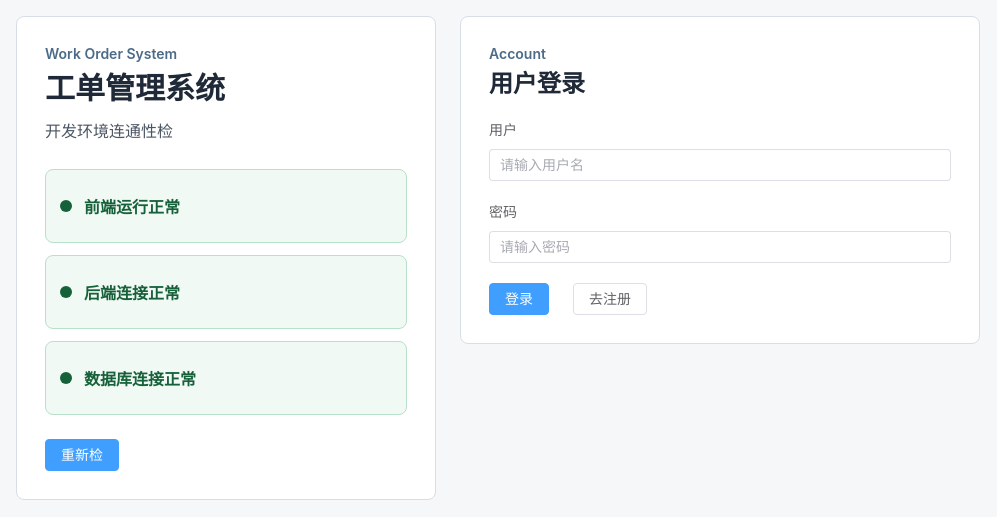
Test: App › shows login API errors without opening protected views
This screenshot has width=997, height=517.
Type "demo" into the field labelled "用户". click: (720, 165)
box: [500,150,940,180]
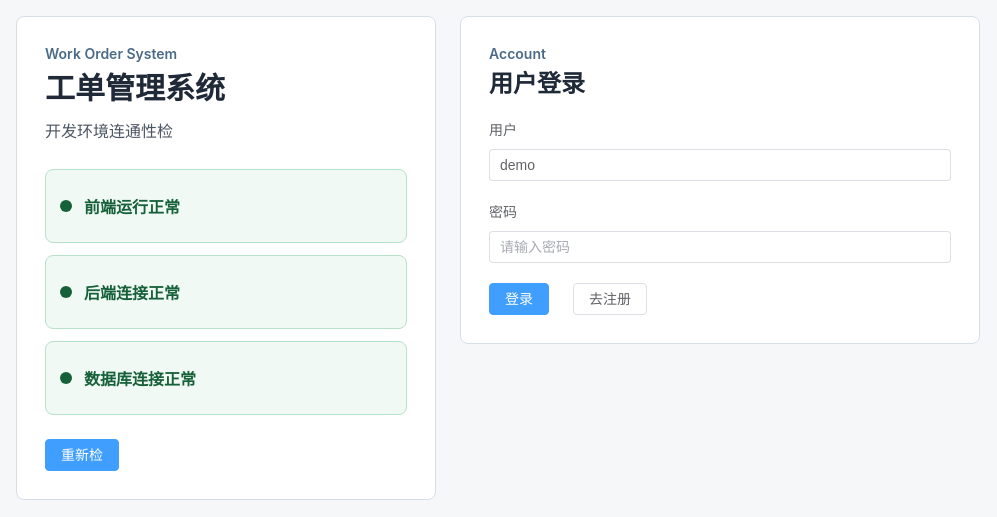
Type "wrong-password" into the password field labelled "密码". click: (720, 247)
box: [500,232,940,262]
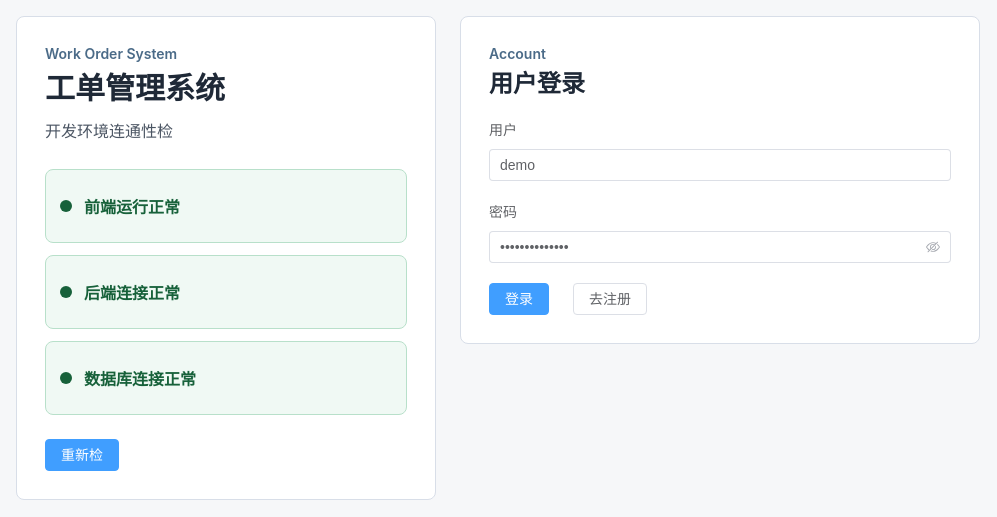
Submit the form, box [489,119,951,315]
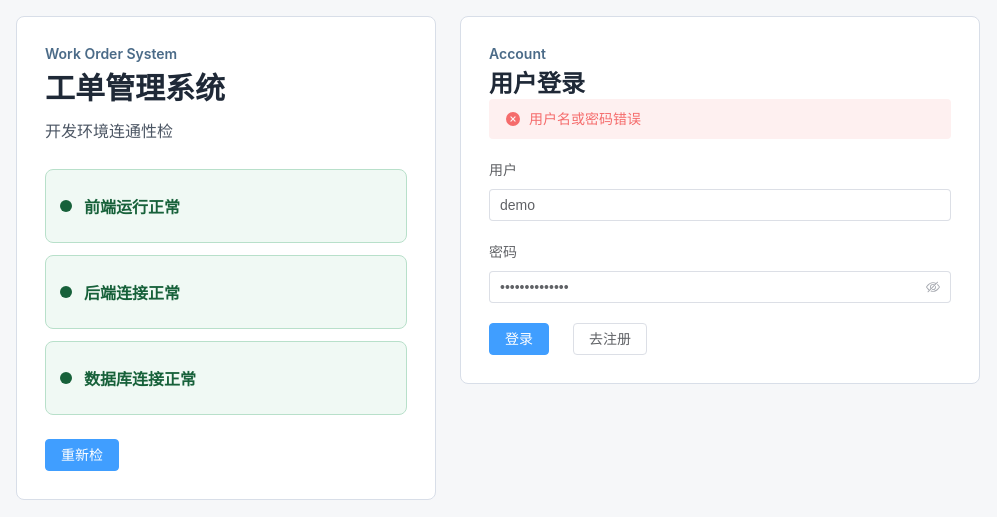
Expected: the text "用户登录" is shown, [489,69,585,98]
Expected: the text "用户名或密码错误" is shown, [529,107,641,131]
